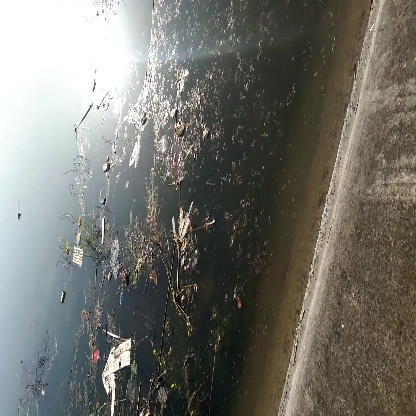plastic-bag: (96, 330, 135, 396)
